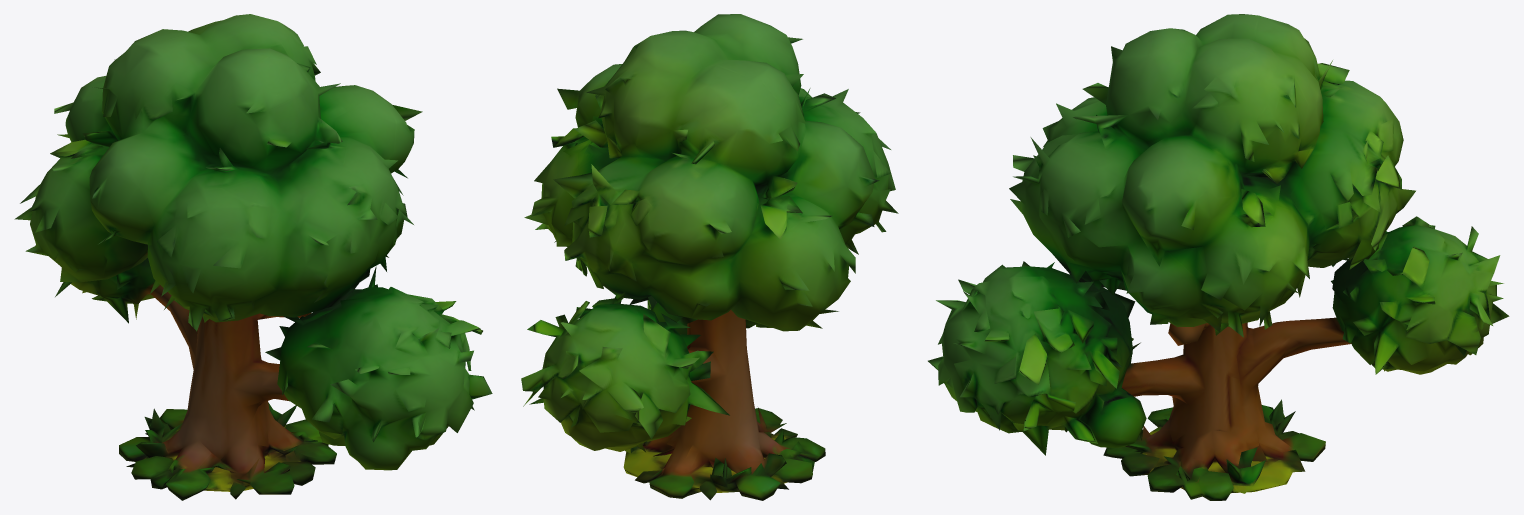
The model's file is textures.glb.
The picture shows the model from 3 angles, left to right: view 1: azimuth 30°, elevation 25°; view 2: azimuth 150°, elevation 25°; view 3: azimuth 270°, elevation 25°; orthographic projection.
Visible parts, largest first — view 1: tripo_node_0babd74f-32c4-4768-87ef-aa8cbd1af785; view 2: tripo_node_0babd74f-32c4-4768-87ef-aa8cbd1af785; view 3: tripo_node_0babd74f-32c4-4768-87ef-aa8cbd1af785.
Boxes of the visible parts, box(x1,y1,x2,y2) form: tripo_node_0babd74f-32c4-4768-87ef-aa8cbd1af785: box(14, 14, 492, 500); tripo_node_0babd74f-32c4-4768-87ef-aa8cbd1af785: box(521, 14, 898, 500); tripo_node_0babd74f-32c4-4768-87ef-aa8cbd1af785: box(928, 14, 1509, 500).
Size of the model in its own units: 0.6829 by 0.8059 by 1.
Materials: 1 (1 with a texture image).
